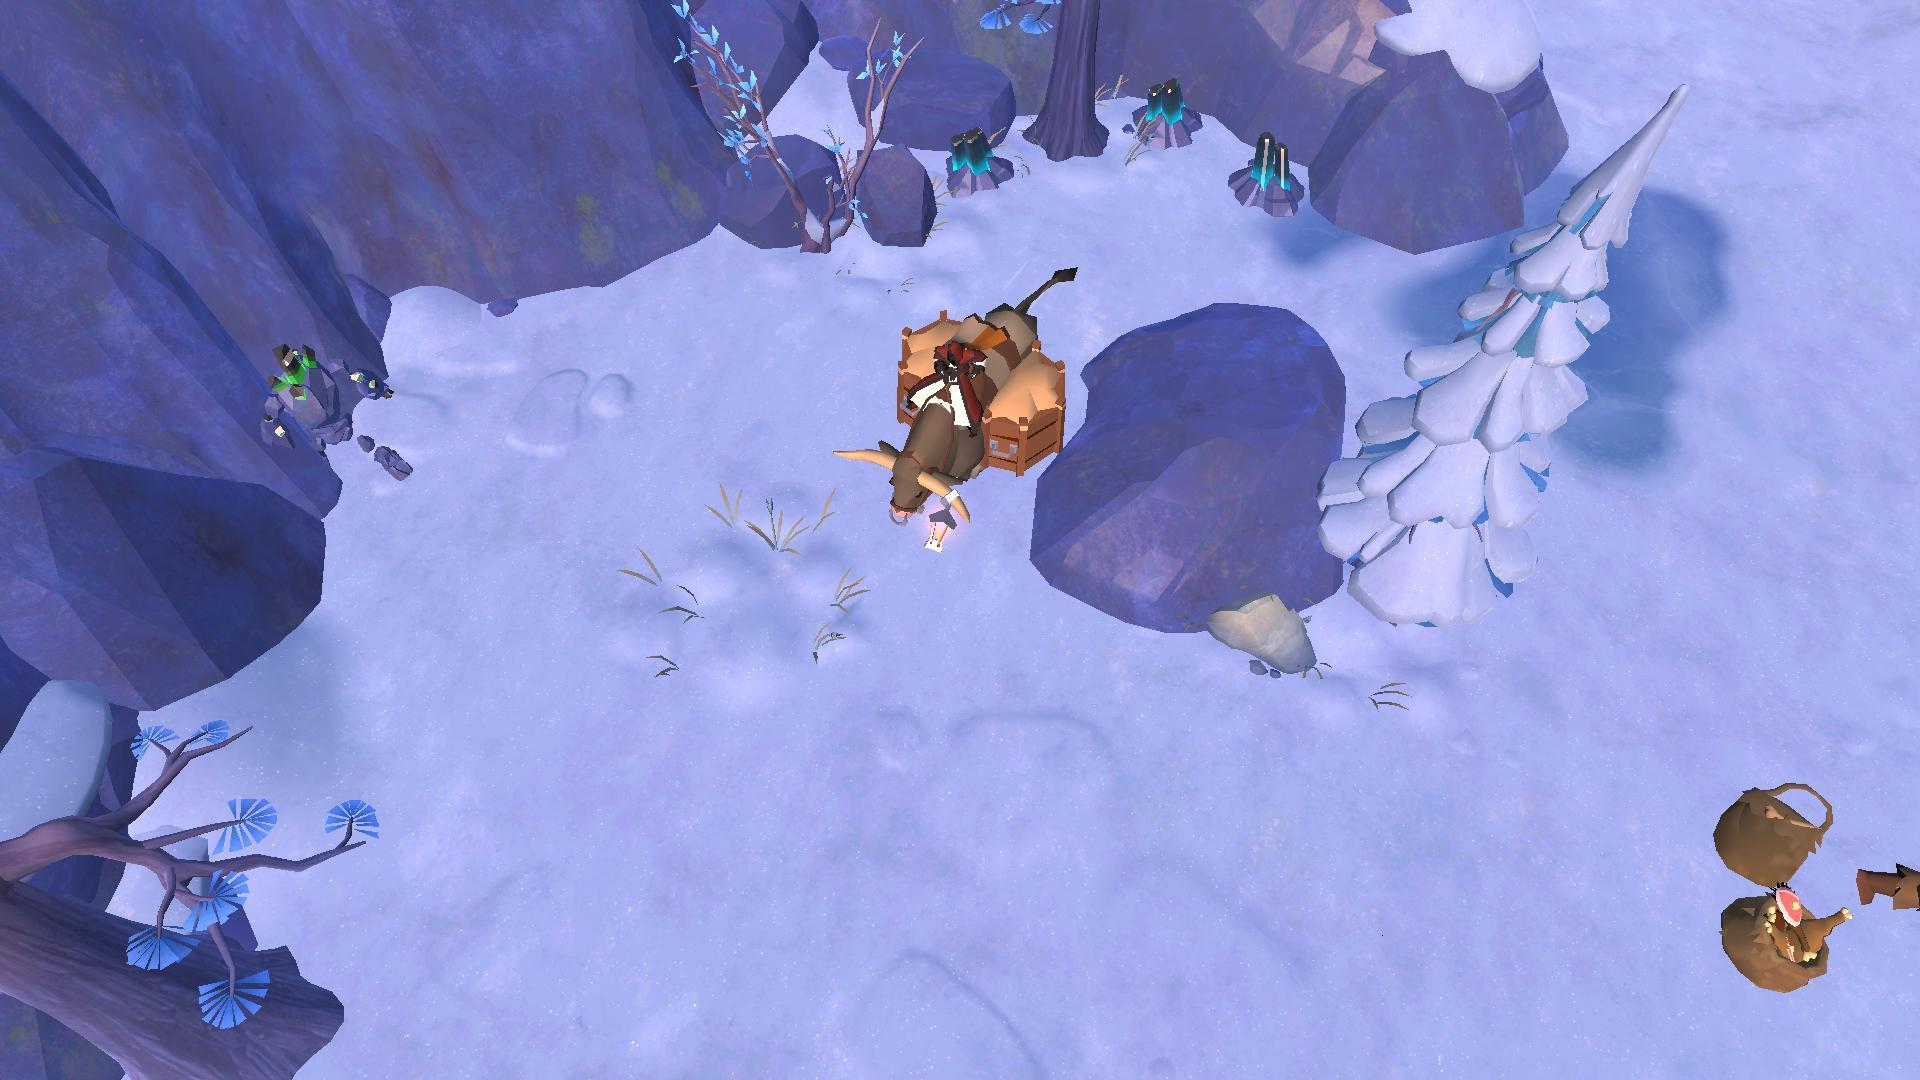ore_t4: (1238, 124, 1298, 193), (942, 120, 993, 182), (1135, 74, 1188, 127)
